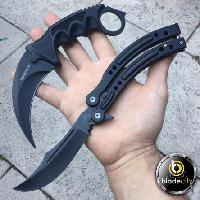knife: (10, 5, 184, 194), (11, 7, 106, 154)
